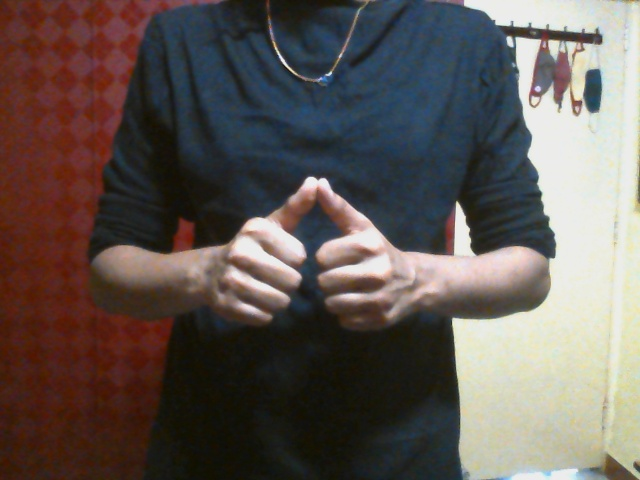A: (198, 175, 427, 336)
